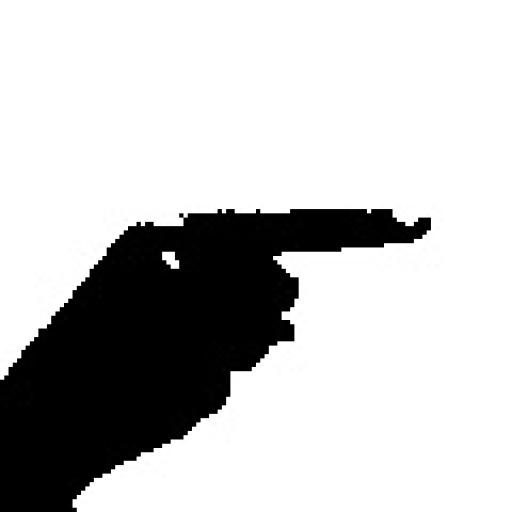index_right: (0, 208, 432, 442)
